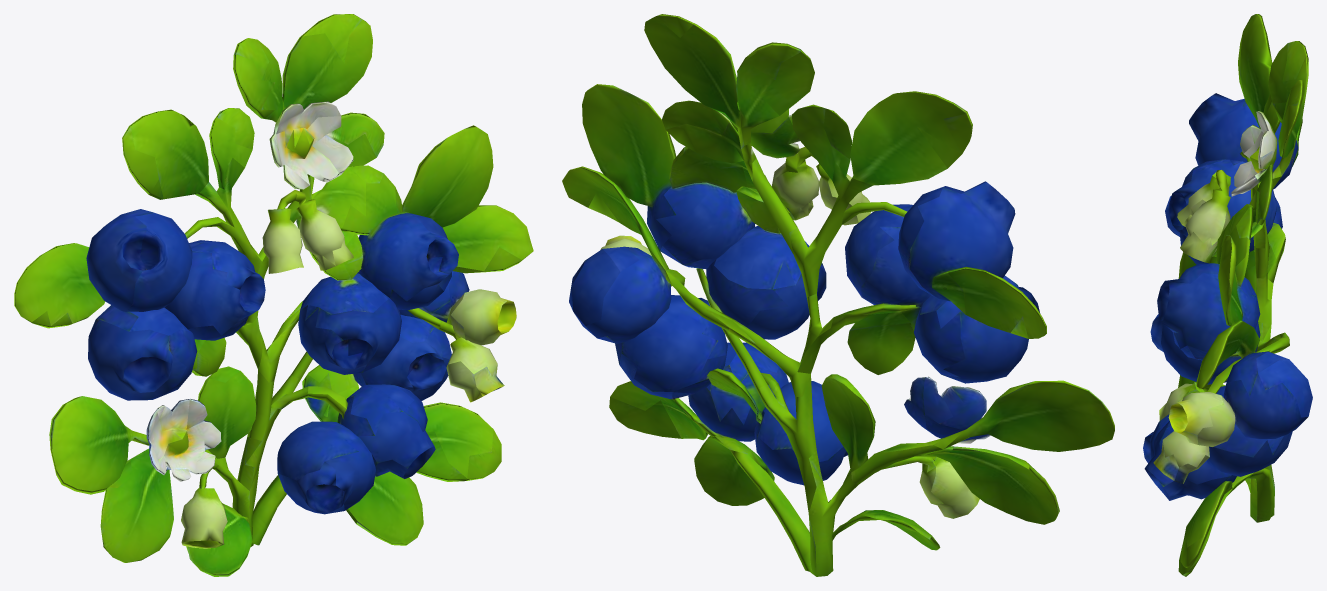
File: blueberry-bush.glb
3 views of the same model, side by side, from view 1: azimuth 30°, elevation 25°; view 2: azimuth 150°, elevation 25°; view 3: azimuth 270°, elevation 25° (orthographic). The views are drawn at different scales.
Size of the model in its own units: 1 by 0.9668 by 0.3066.
Materials: 1 (1 with a texture image).
